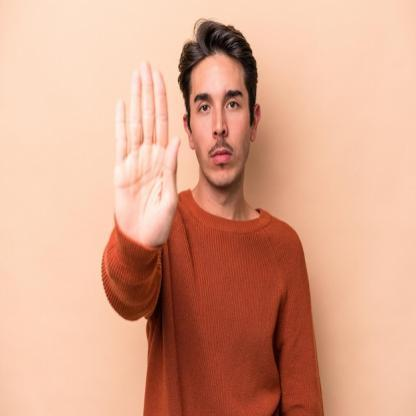stop: (107, 54, 182, 254)
